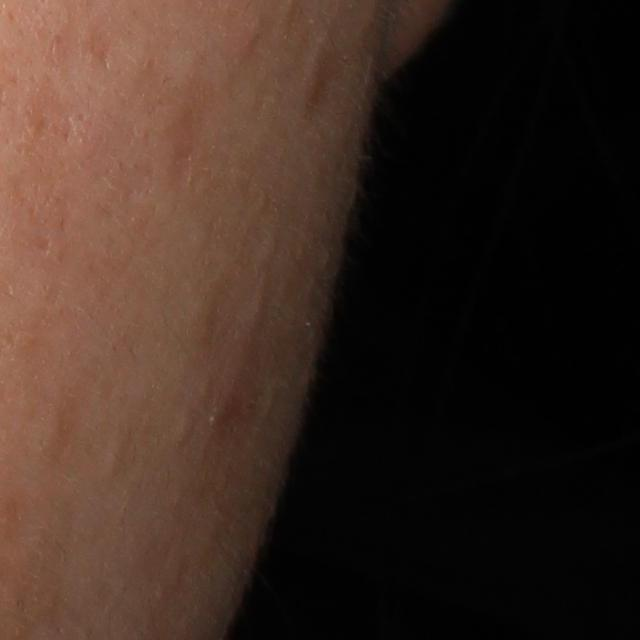comedo: (175, 409, 202, 447), (106, 444, 131, 473)
